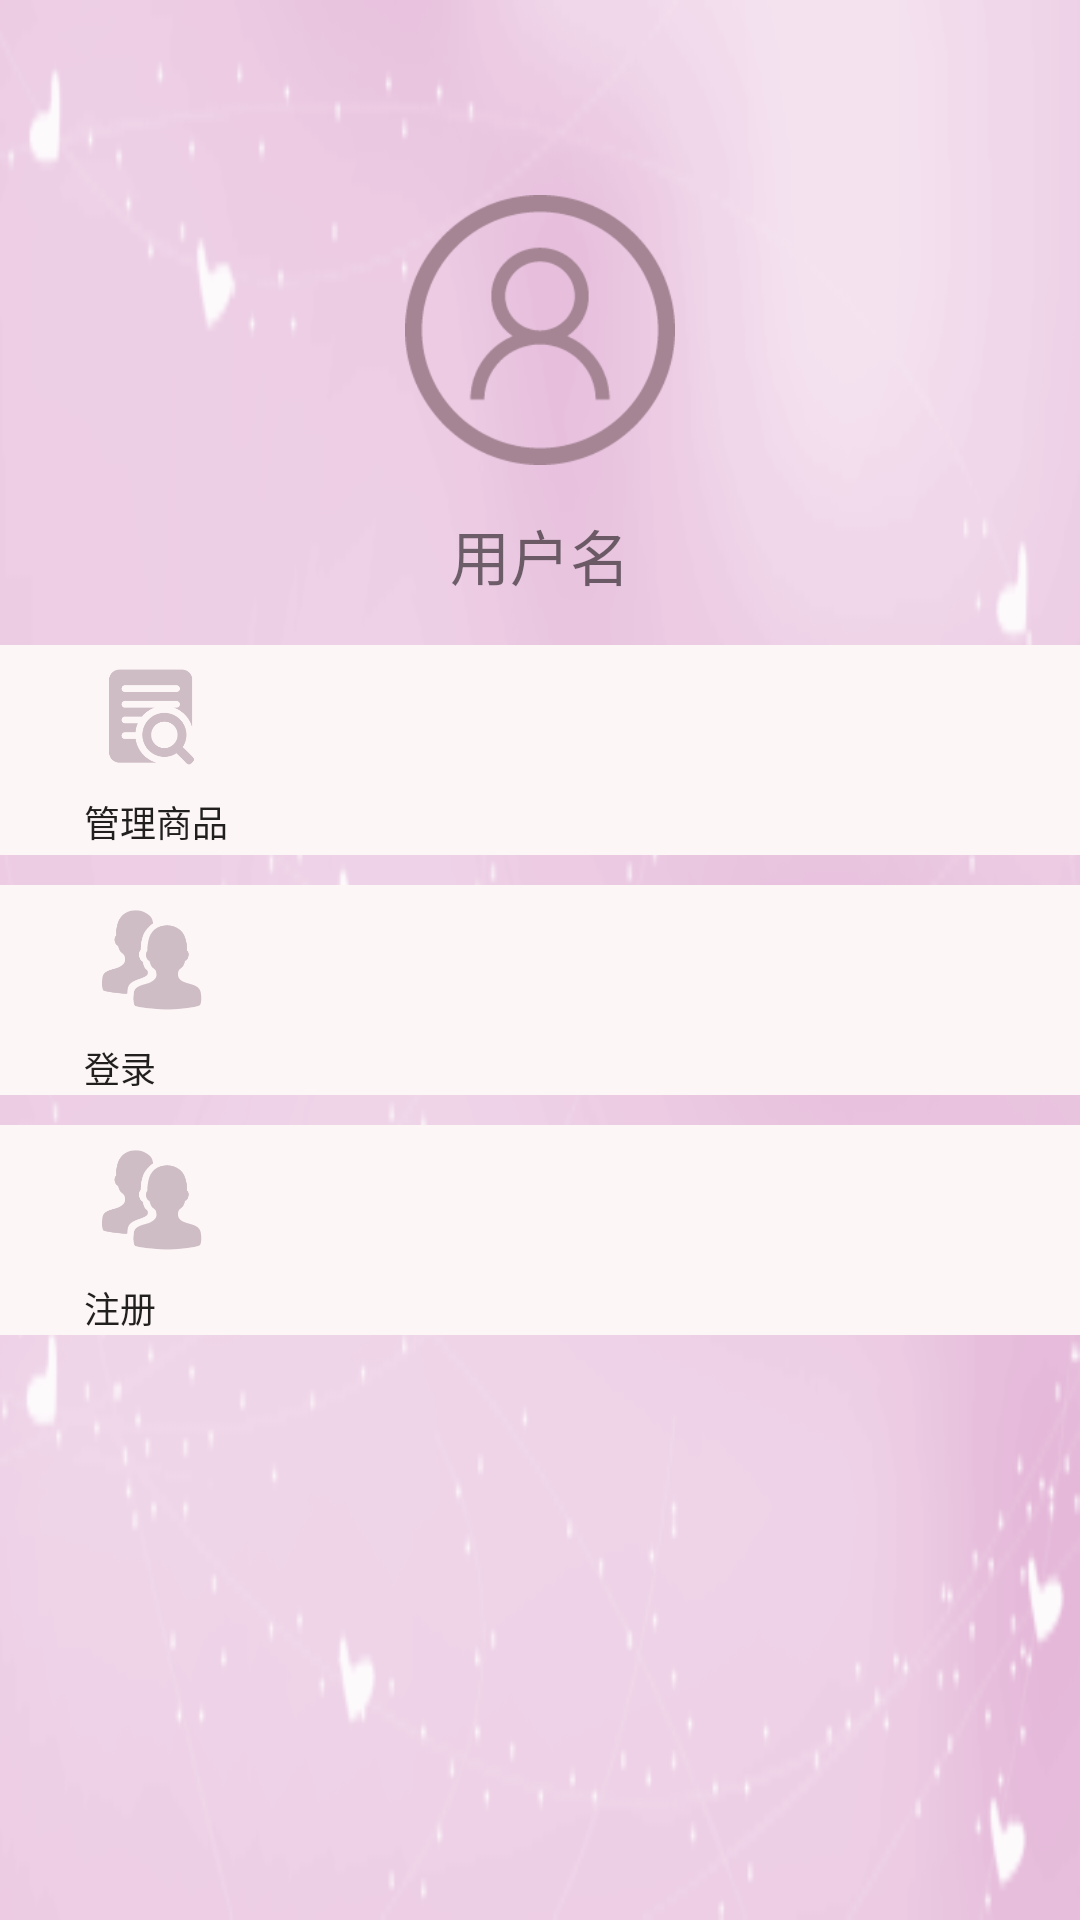

Named icons in this screenshot (1080x1920) and their bounding boxes, [x1=x1, y1=y1, x2=x2, y2=y2]:
dingdan: [x1=109, y1=670, x2=194, y2=764]
touxiang: [x1=405, y1=195, x2=675, y2=465]
